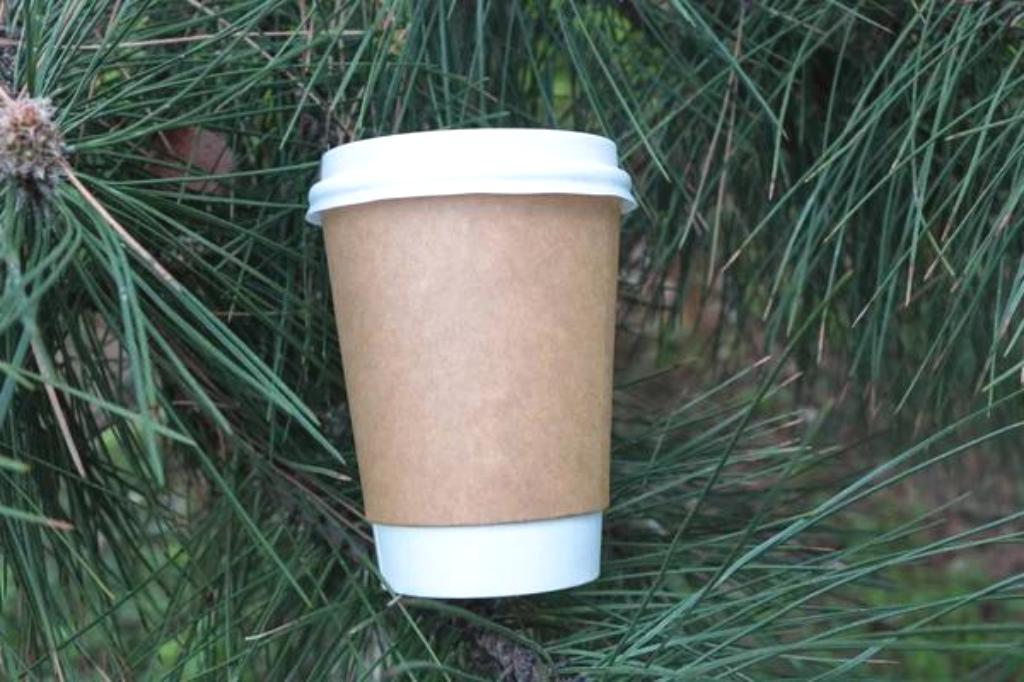garbage: (303, 127, 633, 598)
